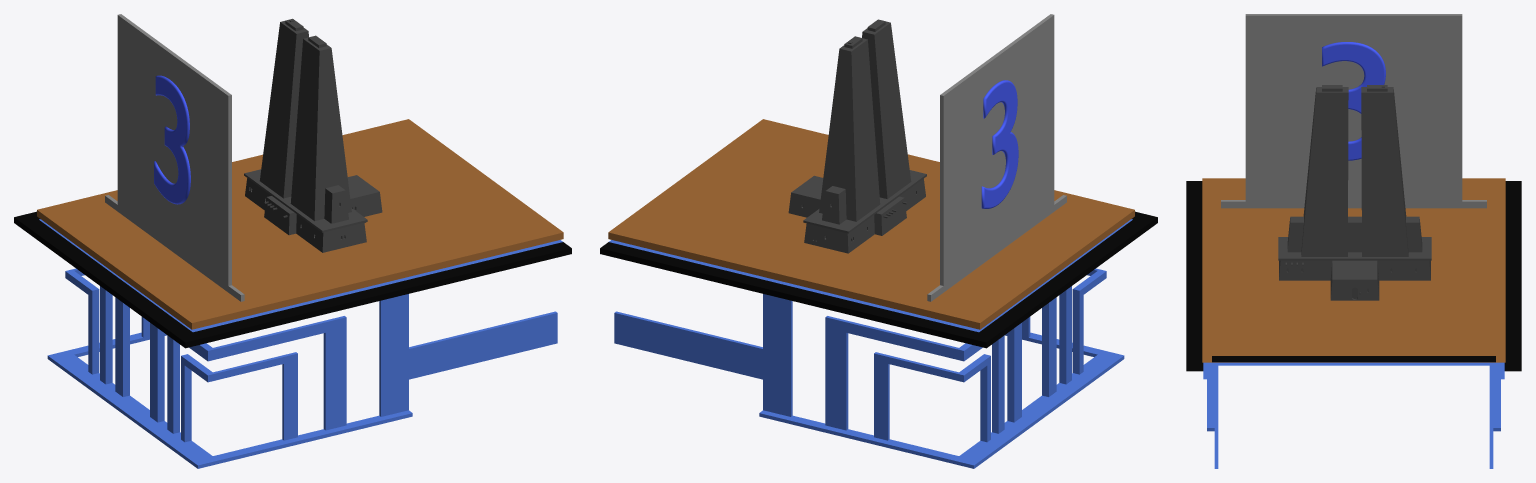
File: Shaking Table Bagian 3.fbx
The picture shows the model from 3 angles, left to right: view 1: azimuth 30°, elevation 25°; view 2: azimuth 150°, elevation 25°; view 3: azimuth 270°, elevation 25°; orthographic projection. The views are drawn at different scales.
Parts seen in each view (by area): view 1: 2_low.002; view 2: 2_low.002; view 3: 2_low.002.
Part boxes in pixels (x1,y1,x2,y2): 2_low.002: (14, 14, 571, 468); 2_low.002: (600, 14, 1157, 468); 2_low.002: (1186, 14, 1521, 468).
Size of the model in its own units: 116 by 99.14 by 88.89.
